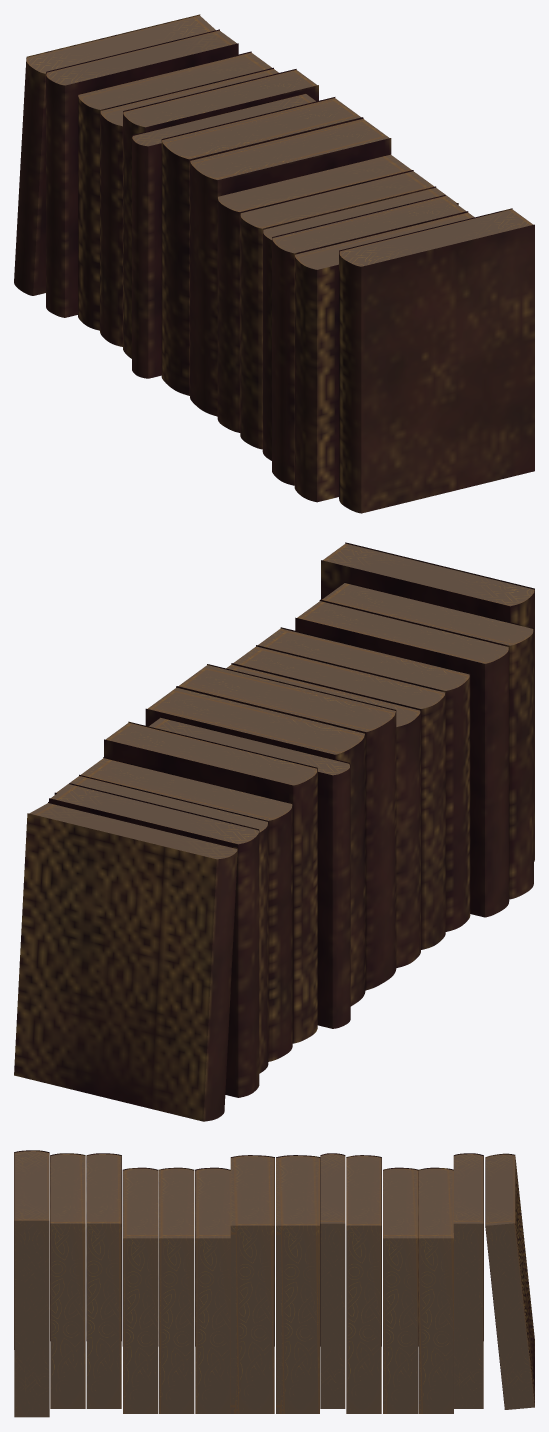
The model's file is SM_BookPile10.fbx.
3 renders of one model, top to bottom at view 1: azimuth 30°, elevation 25°; view 2: azimuth 150°, elevation 25°; view 3: azimuth 270°, elevation 25°, orthographic. The views are drawn at different scales.
Visible parts, largest first — view 1: SM_BookPile10_LOD0; view 2: SM_BookPile10_LOD0; view 3: SM_BookPile10_LOD0.
Part boxes in pixels (bbox=[...]): SM_BookPile10_LOD0: bbox=[14, 14, 534, 513]; SM_BookPile10_LOD0: bbox=[14, 542, 534, 1121]; SM_BookPile10_LOD0: bbox=[14, 1150, 534, 1417].
Size of the model in its own units: 37.76 by 106 by 44.64.
Materials: 1 (1 with a texture image).
